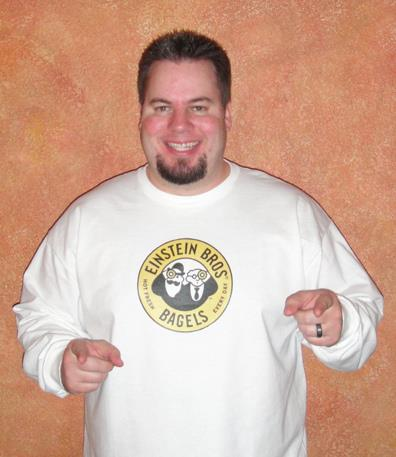einstein_bros: (140, 232, 231, 331)
